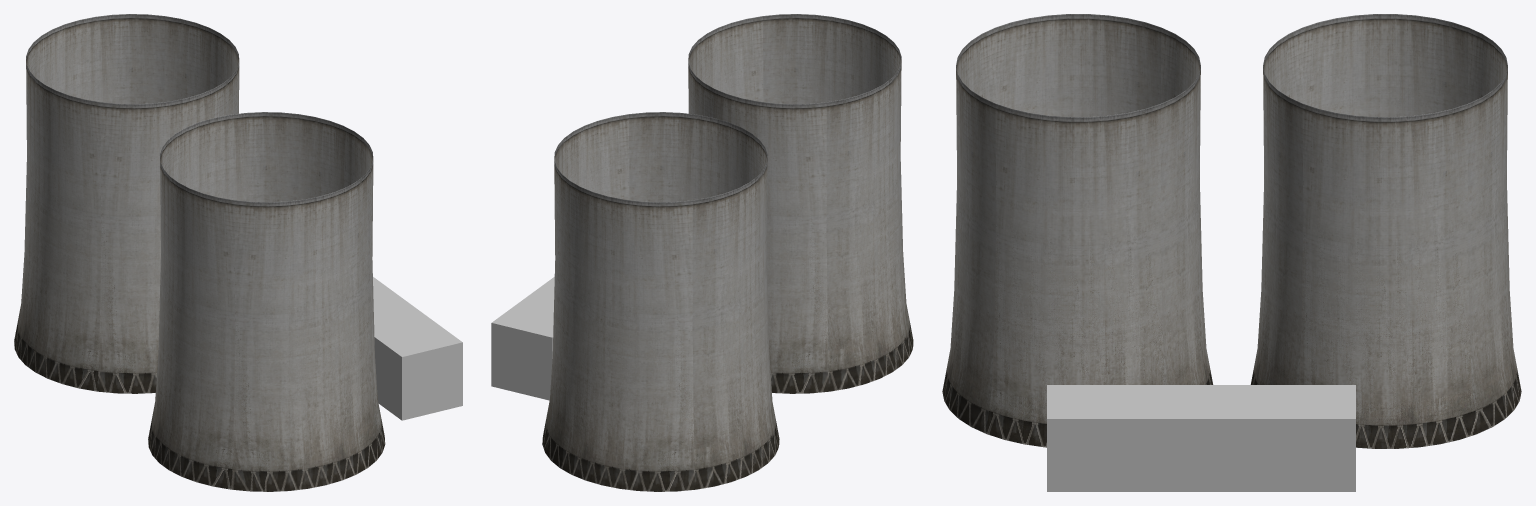
File: BuildingBakc.fbx
3 renders of one model, left to right at view 1: azimuth 30°, elevation 25°; view 2: azimuth 150°, elevation 25°; view 3: azimuth 270°, elevation 25°, orthographic. The views are drawn at different scales.
Parts seen in each view (by area): view 1: Circle, Circle.001, Cube; view 2: Circle.001, Circle, Cube; view 3: Circle.001, Circle, Cube.
Part boxes in pixels (x1=…): Circle: x1=148, y1=112, x2=385, y2=491; Circle.001: x1=14, y1=14, x2=239, y2=393; Cube: x1=373, y1=277, x2=462, y2=420; Circle.001: x1=542, y1=112, x2=779, y2=491; Circle: x1=688, y1=14, x2=913, y2=393; Cube: x1=491, y1=277, x2=554, y2=400; Circle.001: x1=1250, y1=14, x2=1521, y2=448; Circle: x1=942, y1=14, x2=1213, y2=447; Cube: x1=1047, y1=385, x2=1355, y2=491.
Bounding box in the file's own units: 938 × 895 × 1441.
